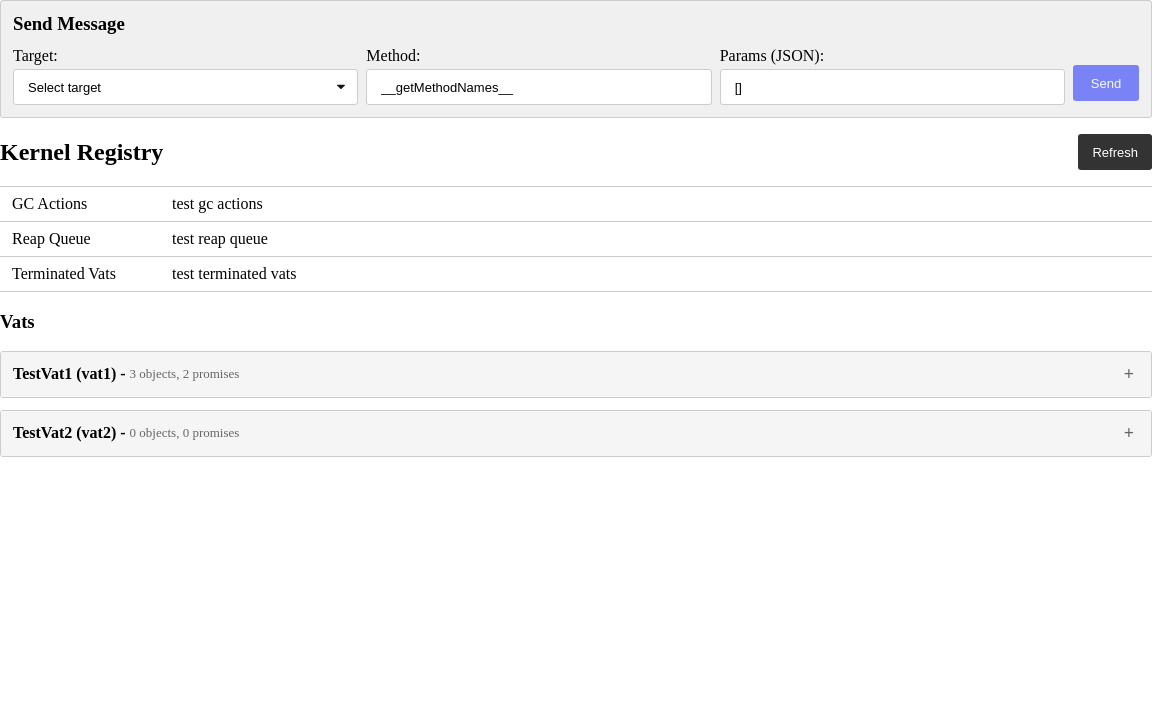
Test: ObjectRegistry Component › renders object tables with correct data
What coordinates should you click on to do the following:
click the element with class "accordion-header" that starts with "TestVat1"
I would click on:
 (576, 375)
Its box is left=1, top=352, right=1151, bottom=397.
(page scrolled)
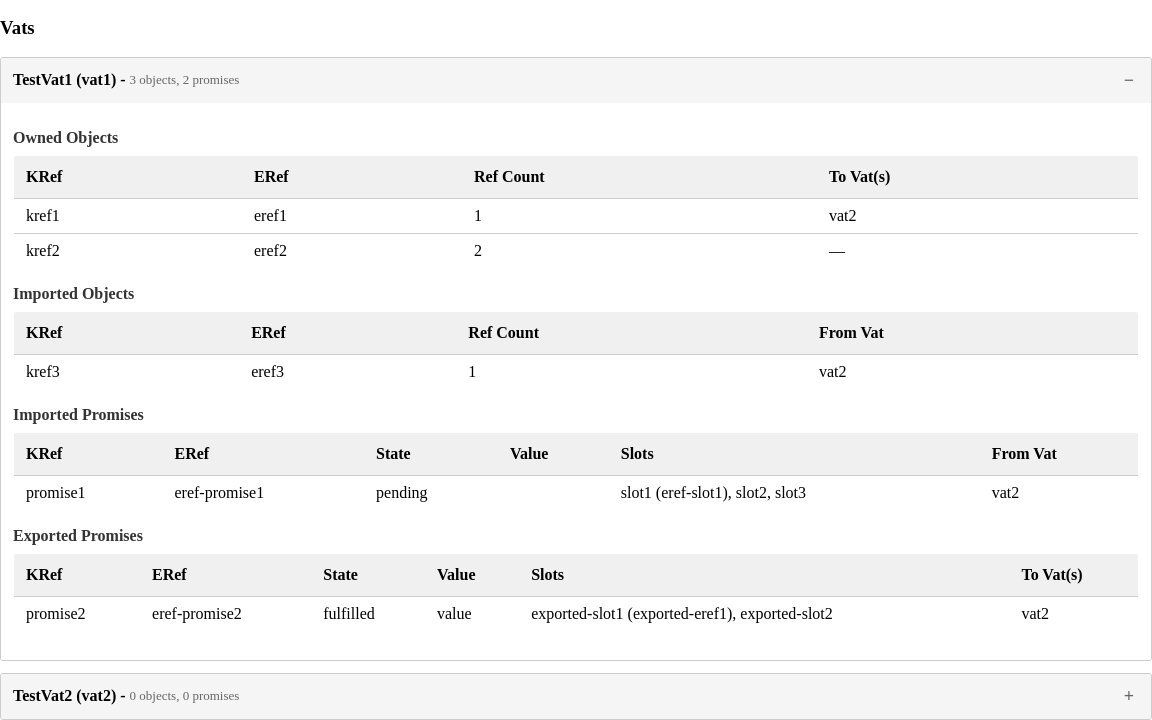
expect the heading "Owned Objects" is shown: met, box left=13, top=129, right=118, bottom=146
expect the heading "Imported Objects" is shown: met, box left=13, top=285, right=134, bottom=302
expect the heading "Imported Promises" is shown: met, box left=13, top=406, right=144, bottom=423
